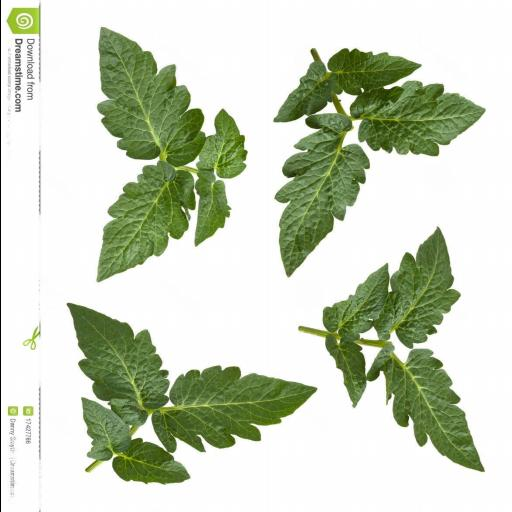Healthy: (272, 113, 372, 277), (95, 26, 205, 168), (366, 347, 484, 474), (150, 366, 318, 454), (64, 302, 170, 426), (95, 160, 195, 282), (372, 226, 462, 350), (349, 80, 486, 158), (321, 262, 389, 342), (326, 48, 422, 95), (272, 62, 342, 124), (110, 437, 190, 485), (194, 109, 248, 179), (79, 396, 133, 462), (323, 335, 367, 409), (194, 170, 232, 248)
